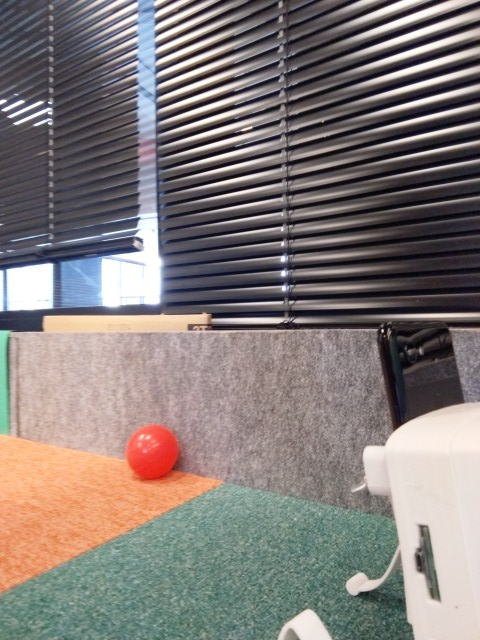bl: (271, 319, 480, 640)
